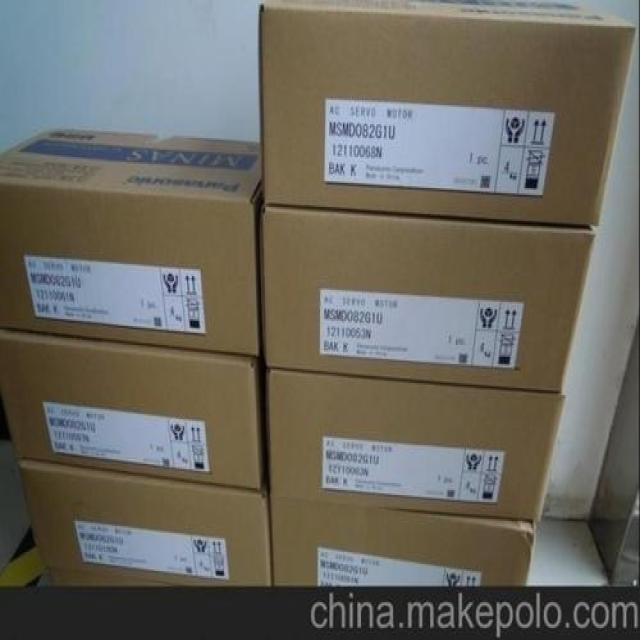box: (260, 0, 636, 227), (261, 207, 600, 395), (0, 124, 263, 354), (261, 368, 565, 521), (0, 328, 266, 490), (19, 461, 272, 587), (267, 498, 534, 586), (49, 567, 273, 589)
